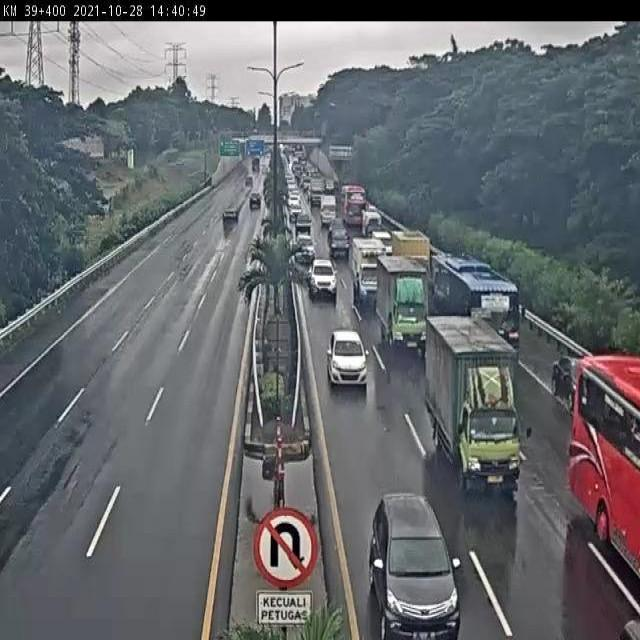bus-l-: (429, 253, 523, 383)
car: (370, 493, 462, 640), (326, 327, 370, 389), (552, 353, 588, 404), (309, 259, 339, 297)
truck-m-: (424, 315, 523, 492), (377, 254, 431, 350), (351, 236, 388, 303)
